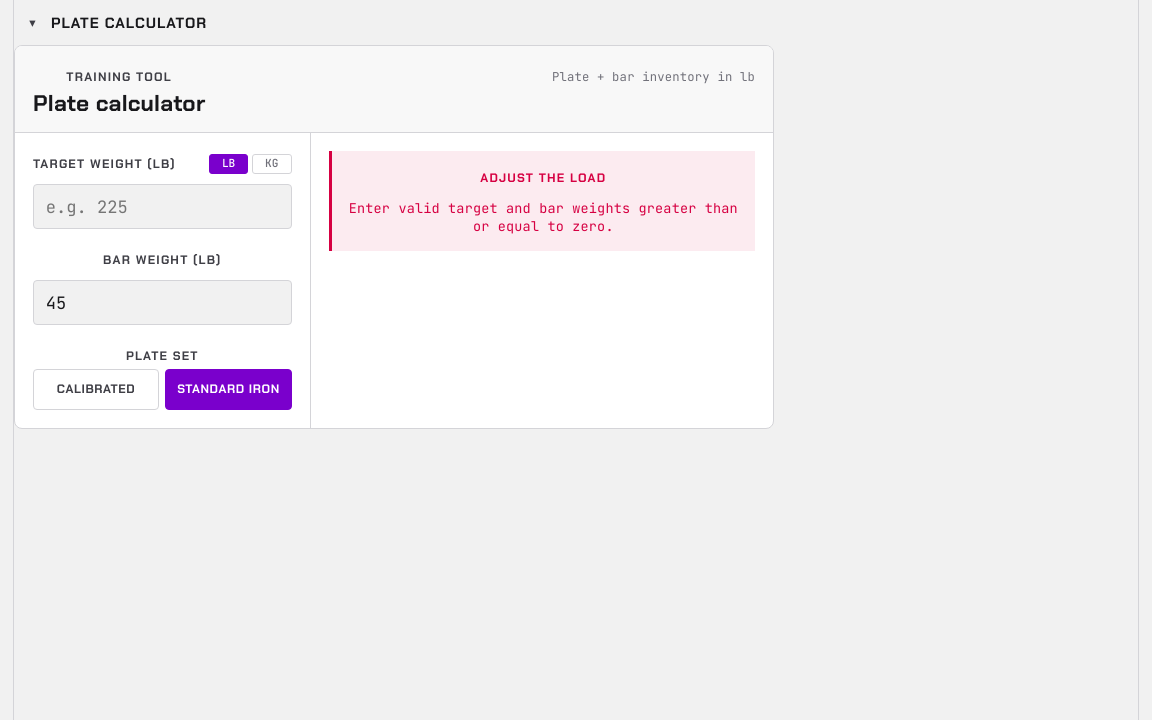
it: PlateCalculator › switches inventories and gives clear validation
This screenshot has width=1152, height=720.
In the number field labelled "Target weight (lb)": (162, 207) [33, 184, 292, 229], type "44"
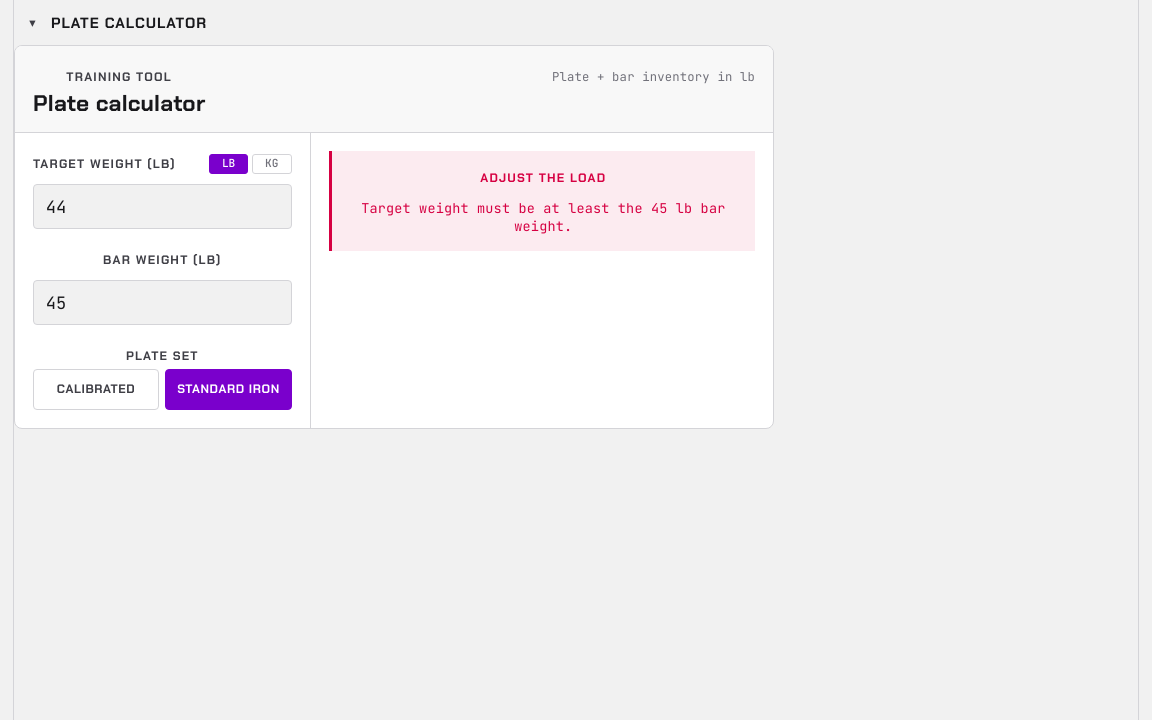
expect the text "Target weight must be at least the 45 lb bar weight." is shown: met, box [346, 198, 741, 236]
